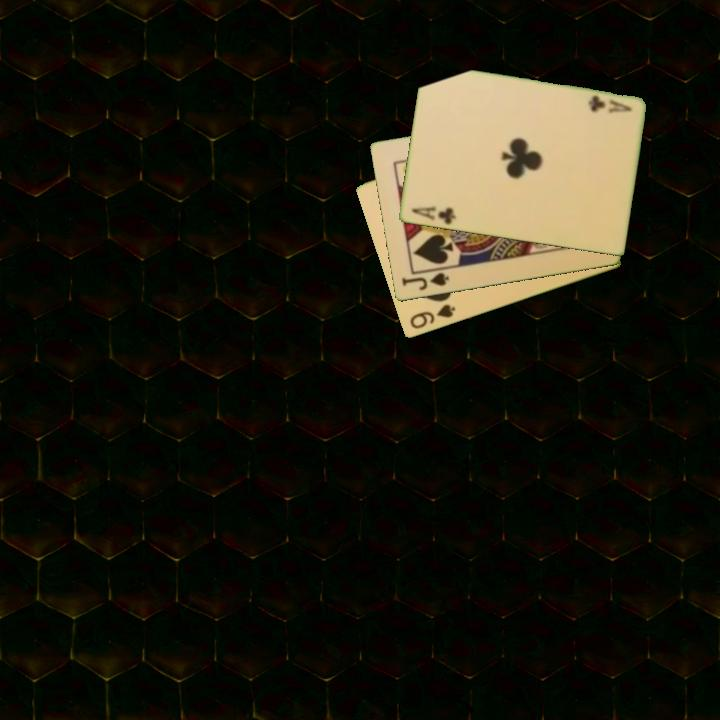9s: (406, 301, 458, 332)
Ac: (408, 203, 458, 228), (584, 92, 635, 116)
Js: (398, 270, 452, 294)
